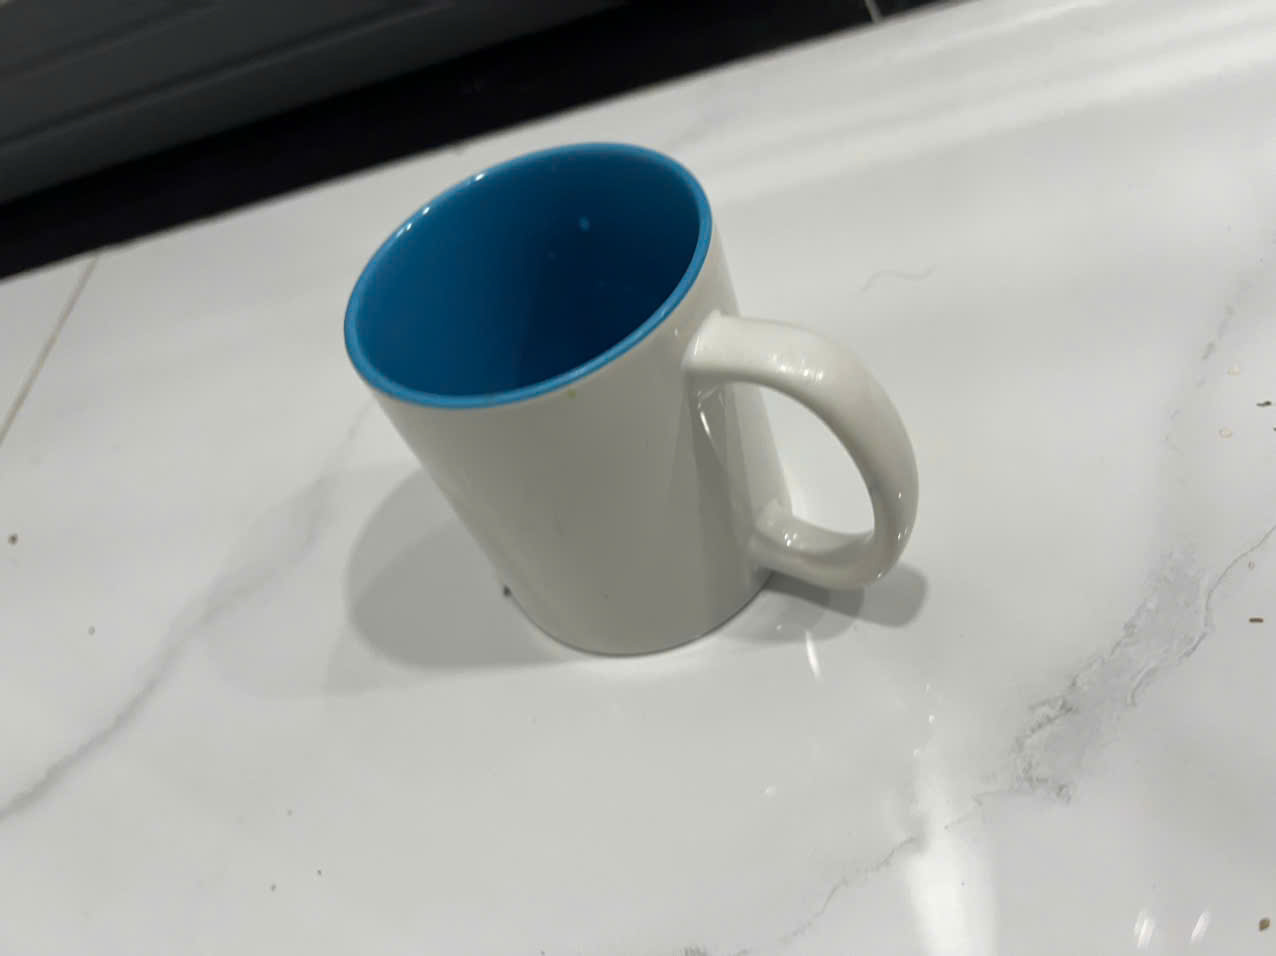ly coc: (337, 140, 922, 701)
